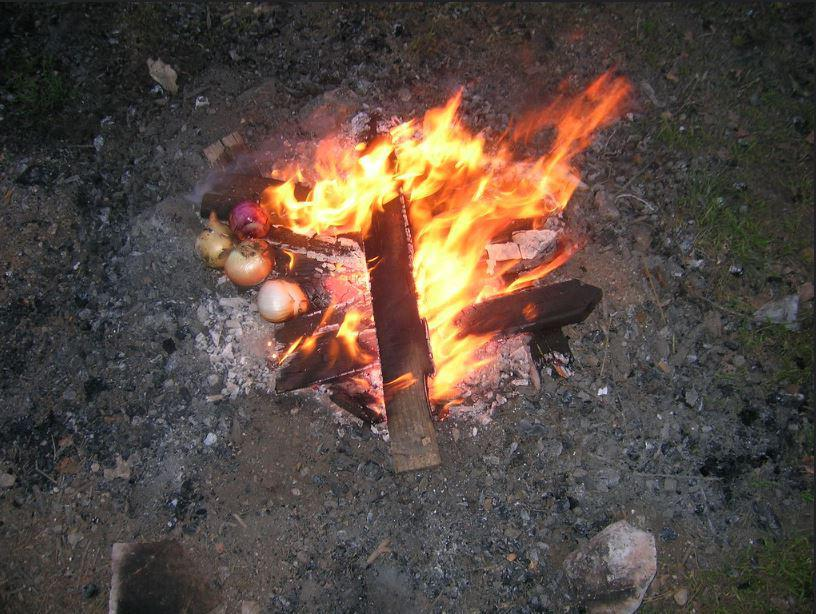Fire: (235, 65, 647, 395)
